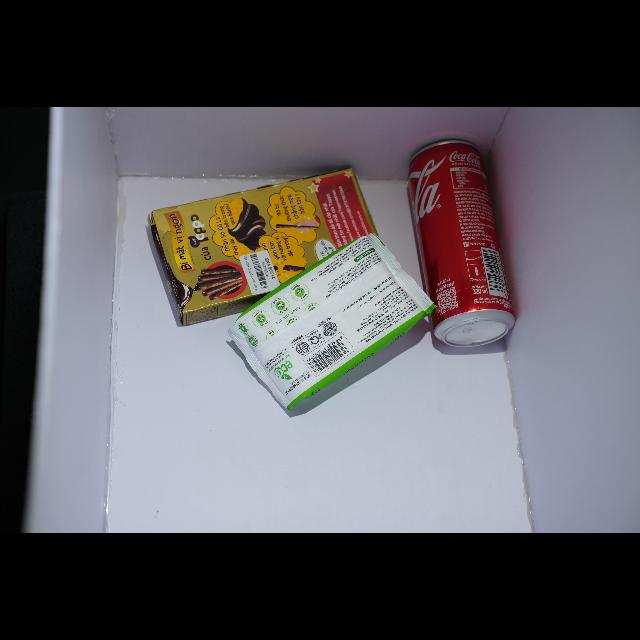banh_toppo_socola: (148, 169, 377, 326)
coca_cola: (408, 140, 515, 347)
khan_giay: (229, 234, 435, 410)
